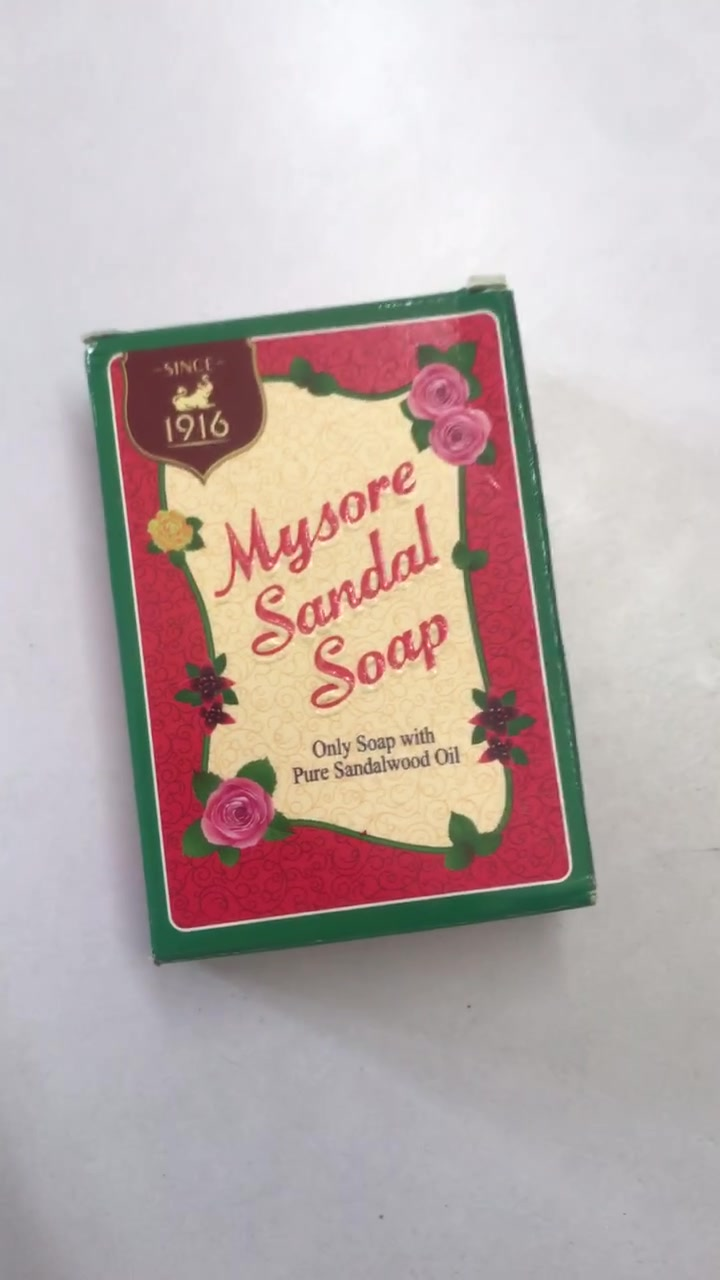mysore sandal soap: (92, 318, 594, 928)
